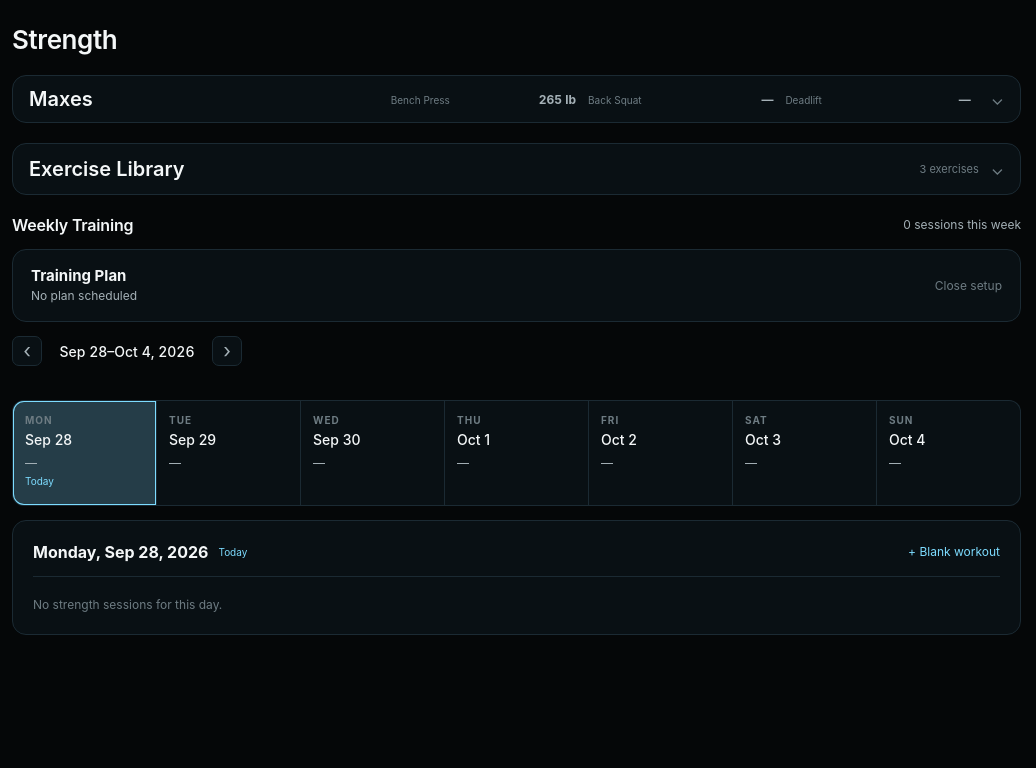
Test: StrengthPage › loads Strength weeks with shared navigation while preserving the selected weekday
Step 1. Click the button with aria-label "Select Thursday, Oct 1" → x=516, y=453, box [445,401,588,505]
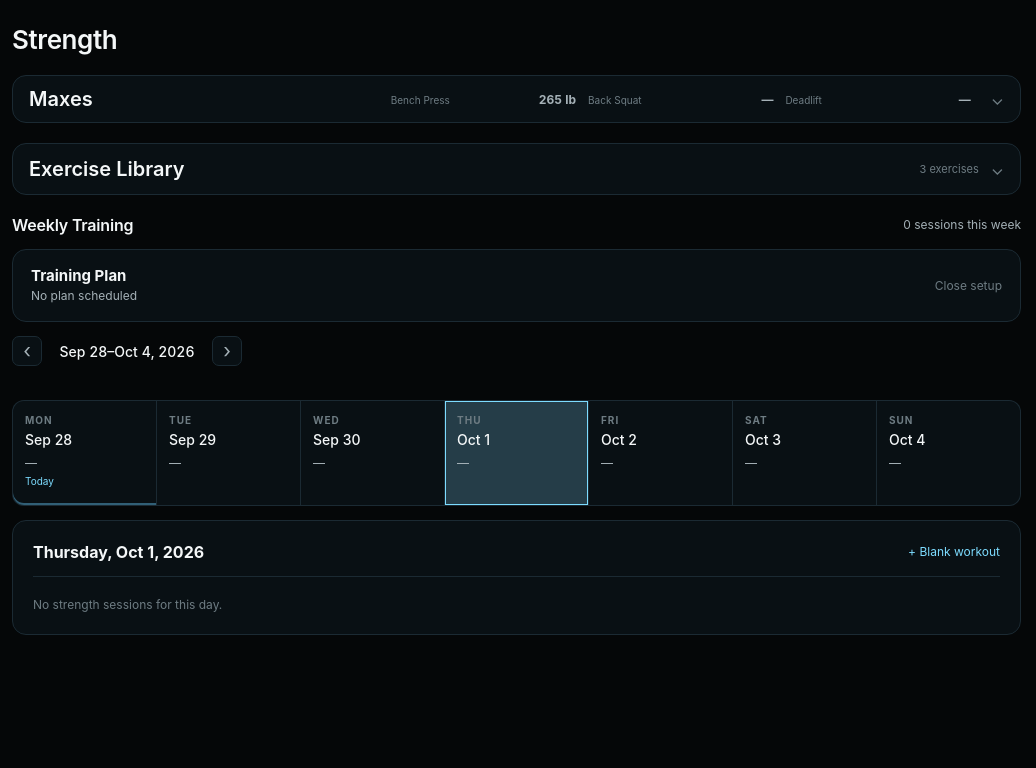
Step 2. Click the button named "Previous week" → x=27, y=351, box [12,336,42,366]
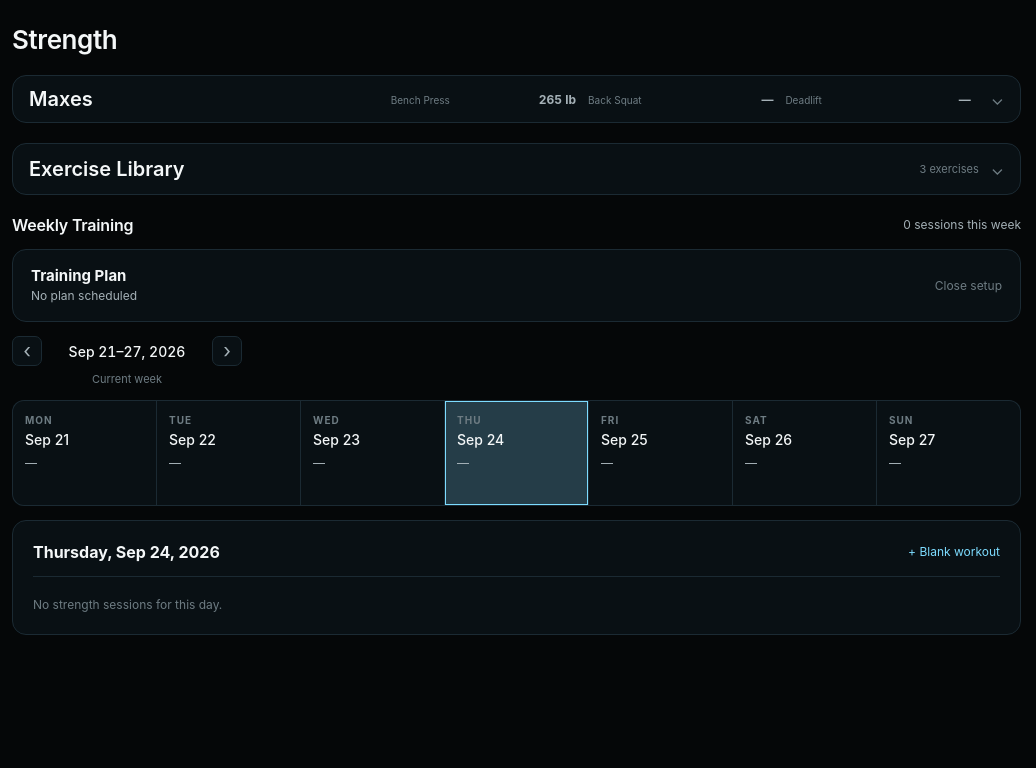
Check: the button with aria-label "Select Thursday, Sep 24" is pressed, box [445,401,588,505]
Step 3. Click the button named "Next week" → x=227, y=351, box [212,336,242,366]
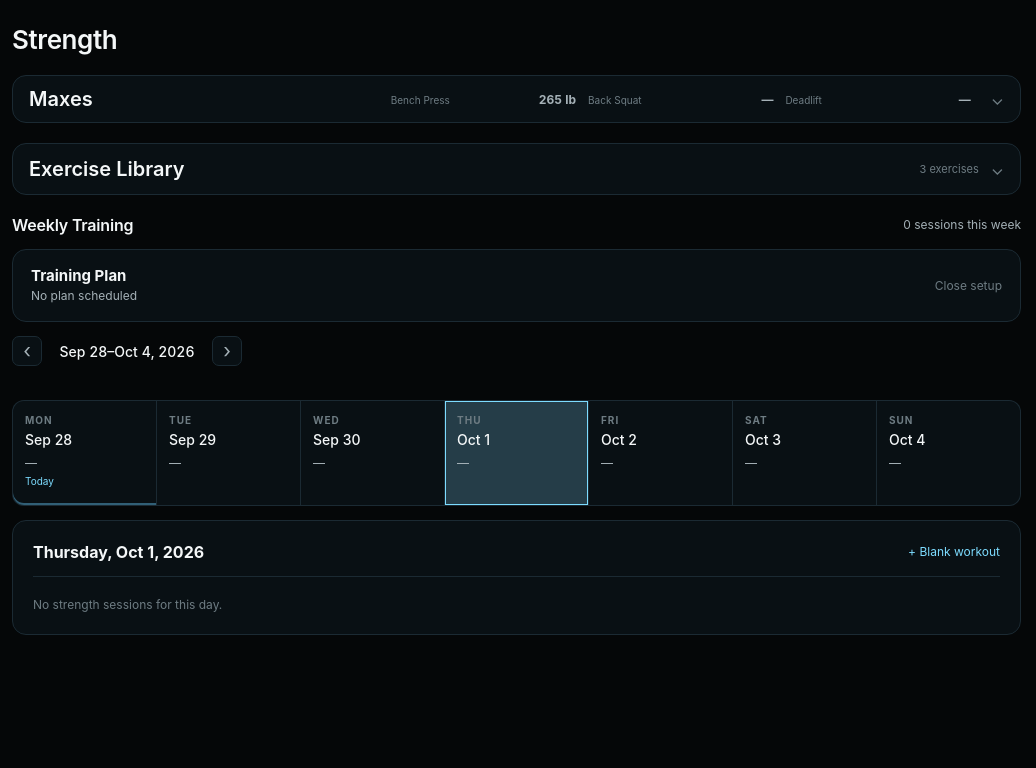
Check: the button with aria-label "Select Thursday, Oct 1" is pressed, box [445,401,588,505]
Step 4. Click the button named "Next week" → x=227, y=351, box [212,336,242,366]
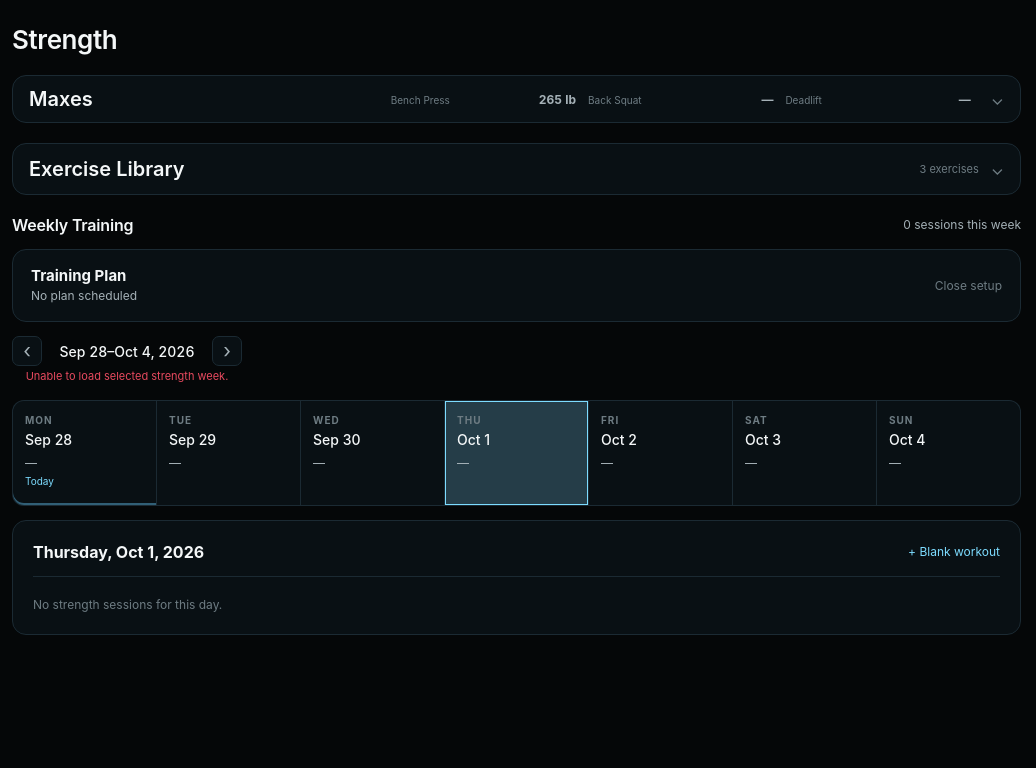
Check: the message reads "Unable to load selected strength week.", box [26,369,228,383]
